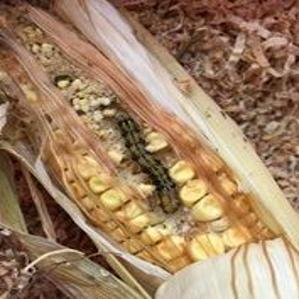Cotton bollworm: (109, 103, 189, 224)
